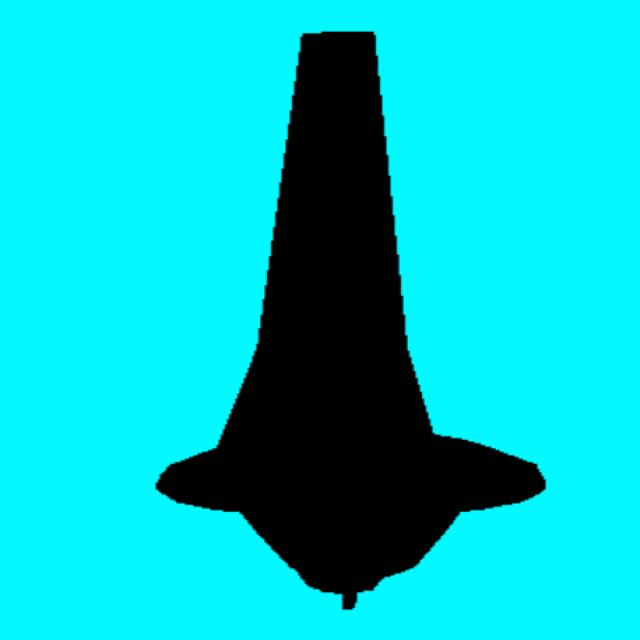BlackBuoy: (156, 32, 544, 608)
